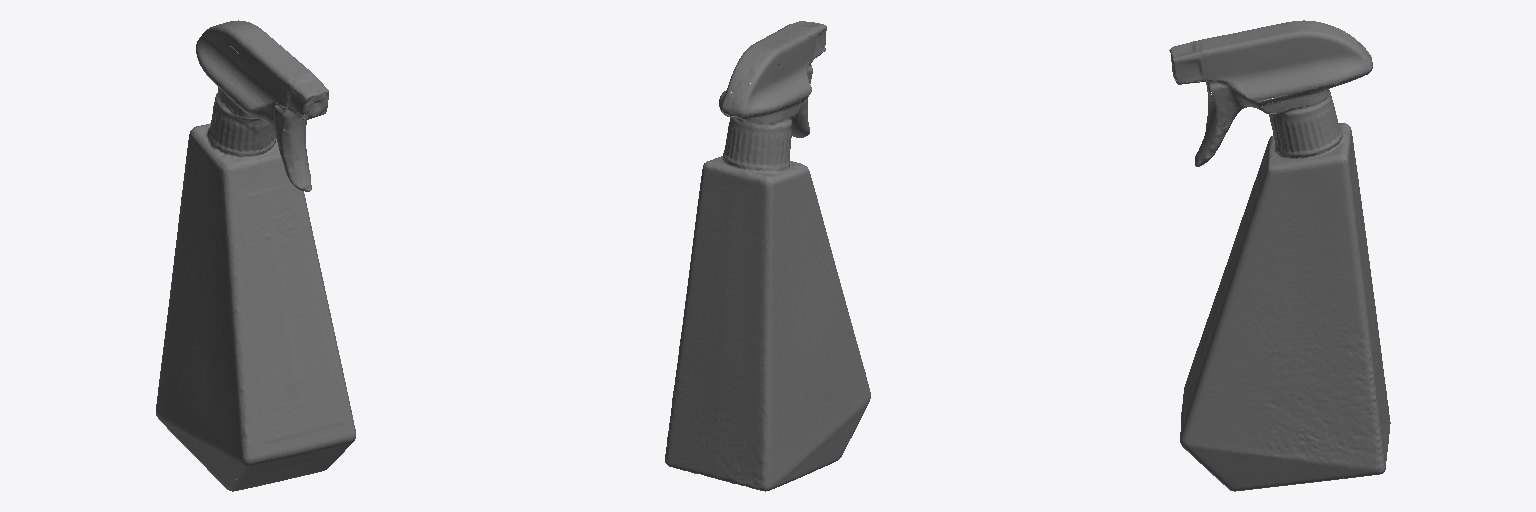
robot.urdf — object:
<?xml version="1.0"?>
<robot name="object">
  <link name="object">
    <visual>
      <origin xyz="0 0 0"/>
      <geometry>
        <mesh
          filename="../../mesh/oakink/dispenser1.stl" />
      </geometry>
      <material name="mat">
        <color rgba="0.5 0.5 0.5 1"/>
      </material>
    </visual>

    <collision>
      <origin xyz="0 0 0"/>
      <geometry>
        <mesh
          filename="../../mesh/oakink/dispenser1.stl" />
      </geometry>
    </collision>
  </link>
</robot>

--- Render facts (derived) ---
Views: 3 orthographic renders of the robot side by side, from view 1: azimuth 30°, elevation 25°; view 2: azimuth 150°, elevation 25°; view 3: azimuth 270°, elevation 25°.
Model object with 1 links and 0 joints (none), rooted at object, posed all joints at 0.
Links seen in each view (by area): view 1: object; view 2: object; view 3: object.
Link boxes in pixels (x1=…): object: x1=156, y1=20, x2=355, y2=491; object: x1=665, y1=21, x2=870, y2=491; object: x1=1169, y1=20, x2=1390, y2=491.
Size in the robot's own frame: 0.0648 by 0.1029 by 0.2274 metres.
Meshes: 1 distinct files referenced, 1 mesh visuals loaded (1 binary STL).